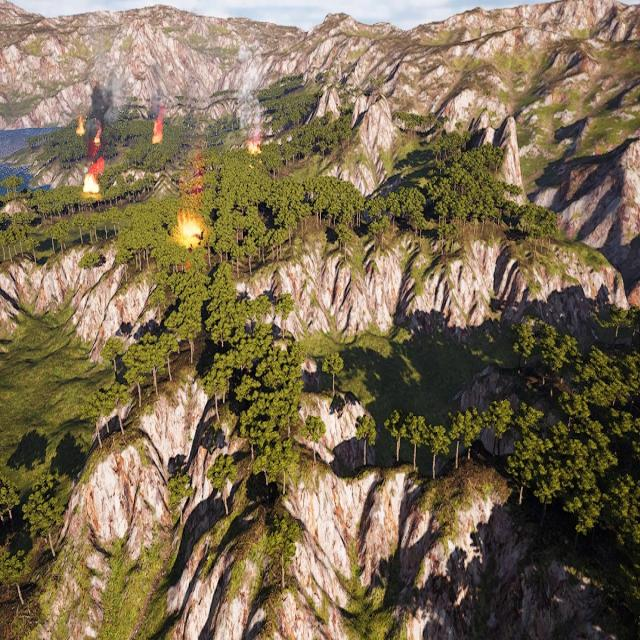fire: (178, 219, 200, 243), (86, 174, 100, 193), (152, 120, 162, 145), (78, 115, 87, 136), (93, 129, 102, 148)
smoke: (236, 63, 262, 148), (88, 71, 121, 127)
